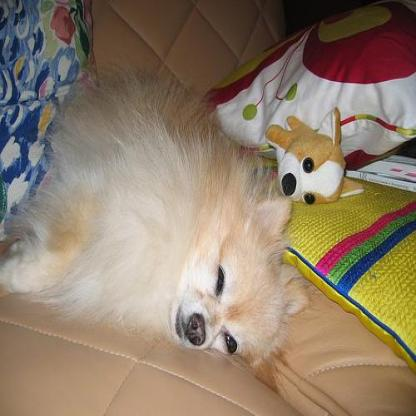Pomeranian: (0, 62, 315, 397)
